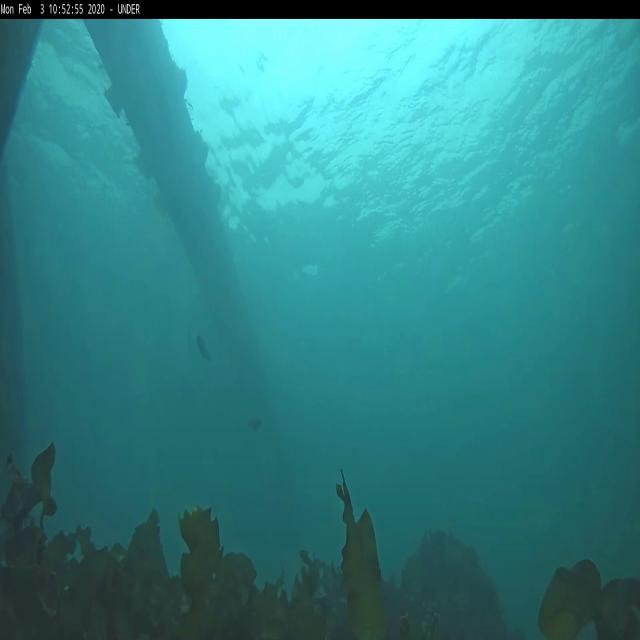fish: (196, 334, 213, 366), (246, 412, 262, 434)
